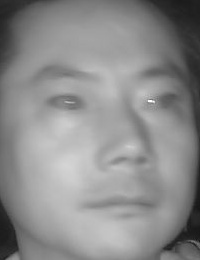eye: (46, 91, 88, 114), (143, 89, 179, 114)
mouth: (85, 186, 158, 225)
